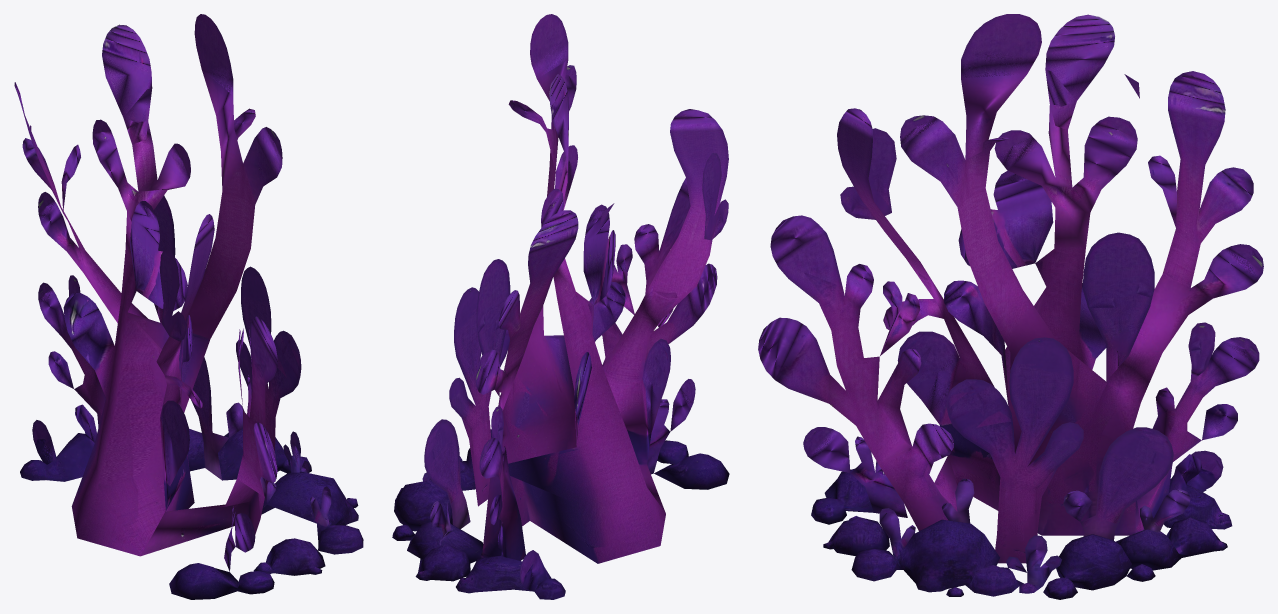
File: purple_coral.glb
3 views of the same model, side by side, from view 1: azimuth 30°, elevation 25°; view 2: azimuth 150°, elevation 25°; view 3: azimuth 270°, elevation 25° (orthographic). The views are drawn at different scales.
Visible parts, largest first — view 1: tripo_node_b06a9e16-2d92-4318-aa6e-24de5e8efdb7; view 2: tripo_node_b06a9e16-2d92-4318-aa6e-24de5e8efdb7; view 3: tripo_node_b06a9e16-2d92-4318-aa6e-24de5e8efdb7.
Part boxes in pixels (<box>): tripo_node_b06a9e16-2d92-4318-aa6e-24de5e8efdb7: <box>14,14,363,599</box>; tripo_node_b06a9e16-2d92-4318-aa6e-24de5e8efdb7: <box>392,14,729,599</box>; tripo_node_b06a9e16-2d92-4318-aa6e-24de5e8efdb7: <box>758,14,1263,599</box>.
Bounding box in the file's own units: 0.5254 × 0.998 × 0.877.
Materials: 1 (1 with a texture image).
